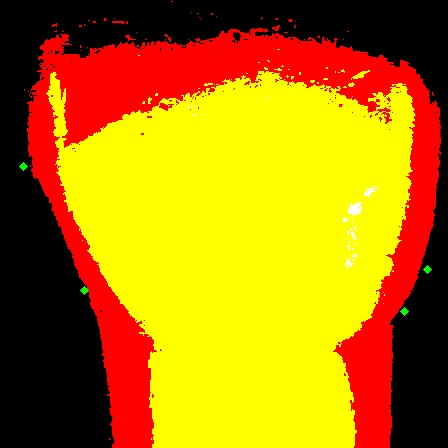coin_1: (84, 290, 104, 310)
coin_2: (23, 166, 43, 186)
coin_3: (404, 311, 424, 331)
coin_4: (427, 269, 447, 289)
